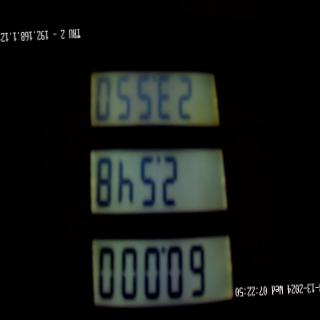screen: (73, 28, 238, 320)
